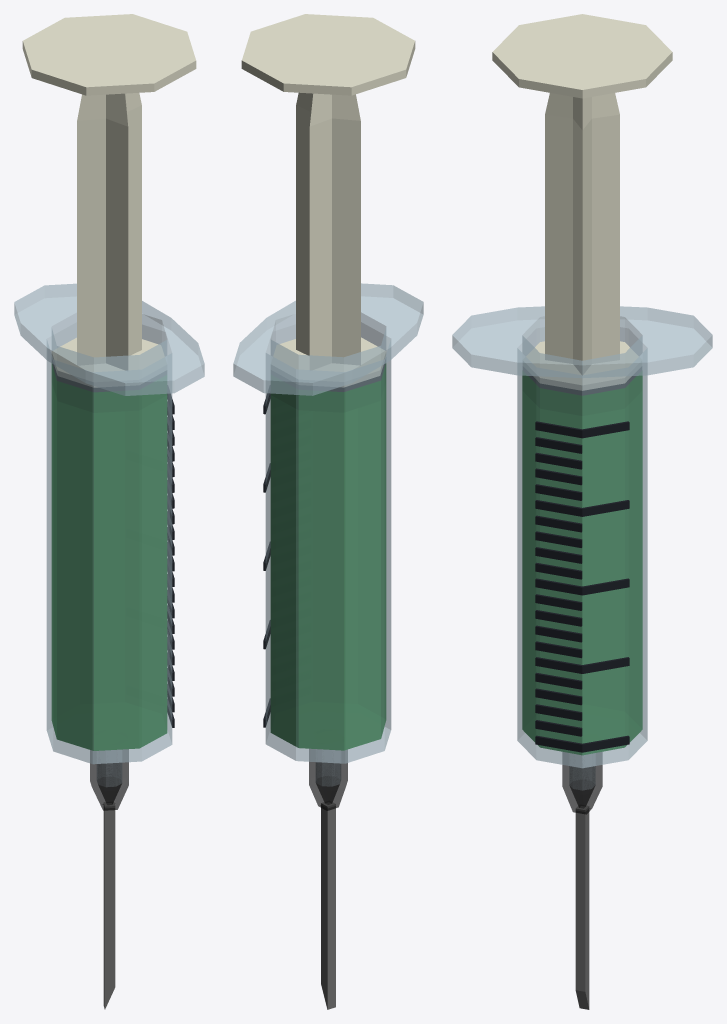
Rendered from Шприц.fbx.
The picture shows the model from 3 angles, left to right: view 1: azimuth 30°, elevation 25°; view 2: azimuth 150°, elevation 25°; view 3: azimuth 270°, elevation 25°; orthographic projection.
Visible parts, largest first — view 1: Циліндр, Циліндр.003, Циліндр.005, Циліндр.001, Циліндр.004; view 2: Циліндр, Циліндр.003, Циліндр.005, Циліндр.004, Циліндр.001; view 3: Циліндр, Циліндр.003, Циліндр.001, Циліндр.005, Циліндр.004.
Part boxes in pixels (x1,y1,x2,y2): Циліндр: (14,283,204,786); Циліндр.003: (22,14,196,392); Циліндр.005: (103,802,115,1009); Циліндр.001: (167,393,174,727); Циліндр.004: (90,749,128,810); Циліндр: (233,283,423,786); Циліндр.003: (241,14,415,391); Циліндр.005: (321,801,335,1009); Циліндр.004: (309,749,347,810); Циліндр.001: (263,393,270,727); Циліндр: (452,306,712,790); Циліндр.003: (492,14,672,395); Циліндр.001: (535,421,629,752); Циліндр.005: (575,805,589,1009); Циліндр.004: (562,752,602,814).
Bounding box in the file's own units: 276 × 1625 × 400.
